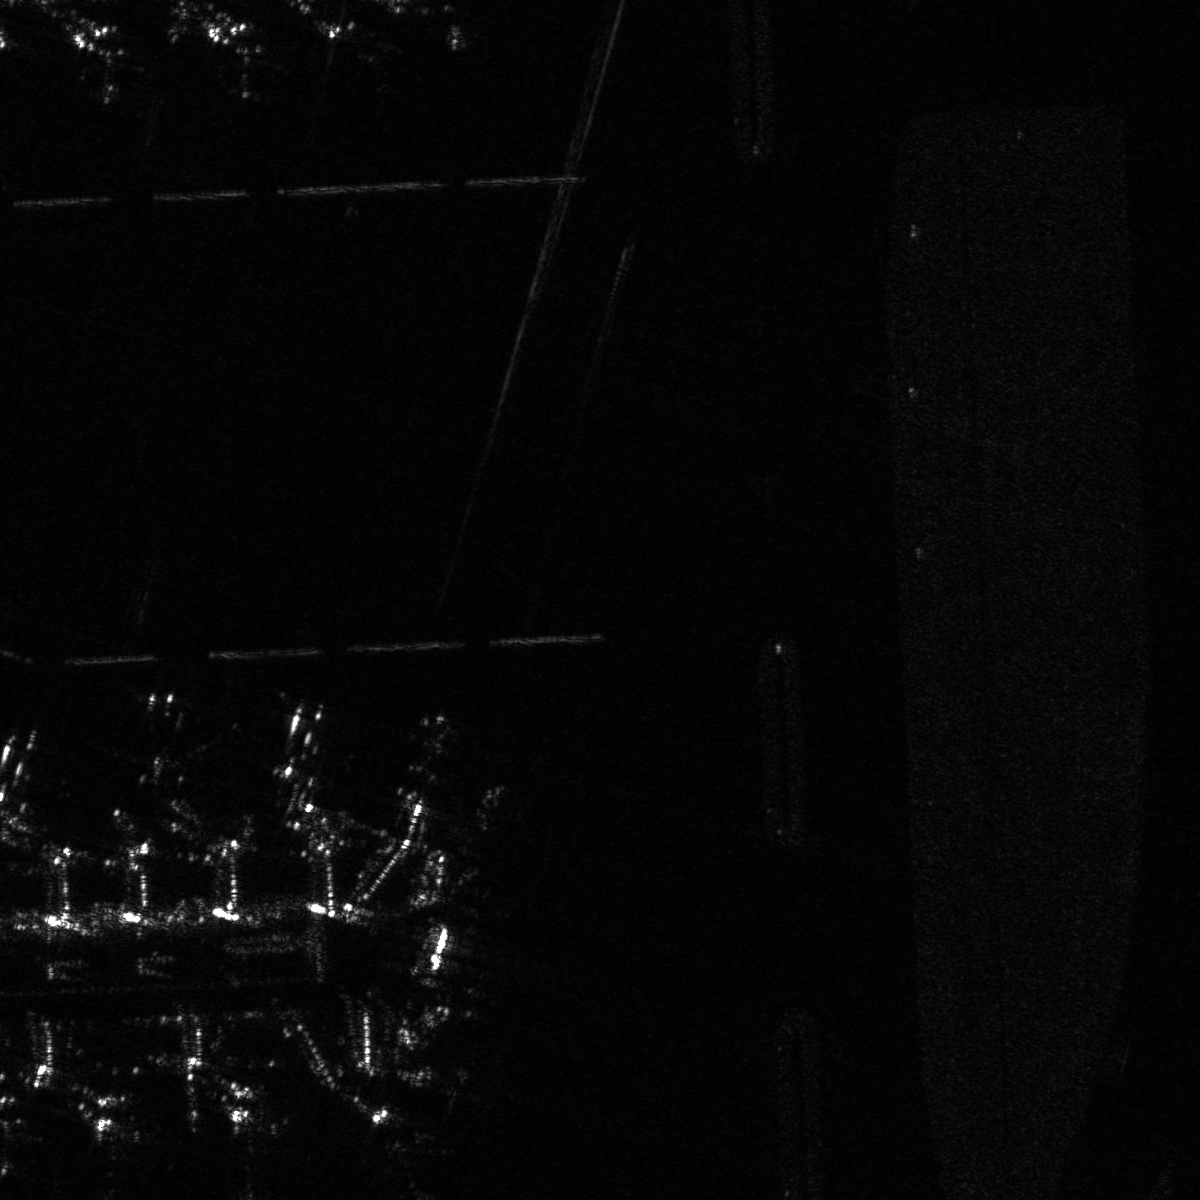A220: (381, 703, 484, 809), (1, 1113, 51, 1195), (474, 784, 529, 830)
A320/321: (240, 698, 367, 795), (200, 8, 290, 107)
Boeing737: (349, 1096, 466, 1199), (313, 12, 398, 74)
Boeing787: (59, 1115, 176, 1199), (70, 13, 152, 119)
other: (84, 681, 238, 789), (197, 1100, 297, 1199)
